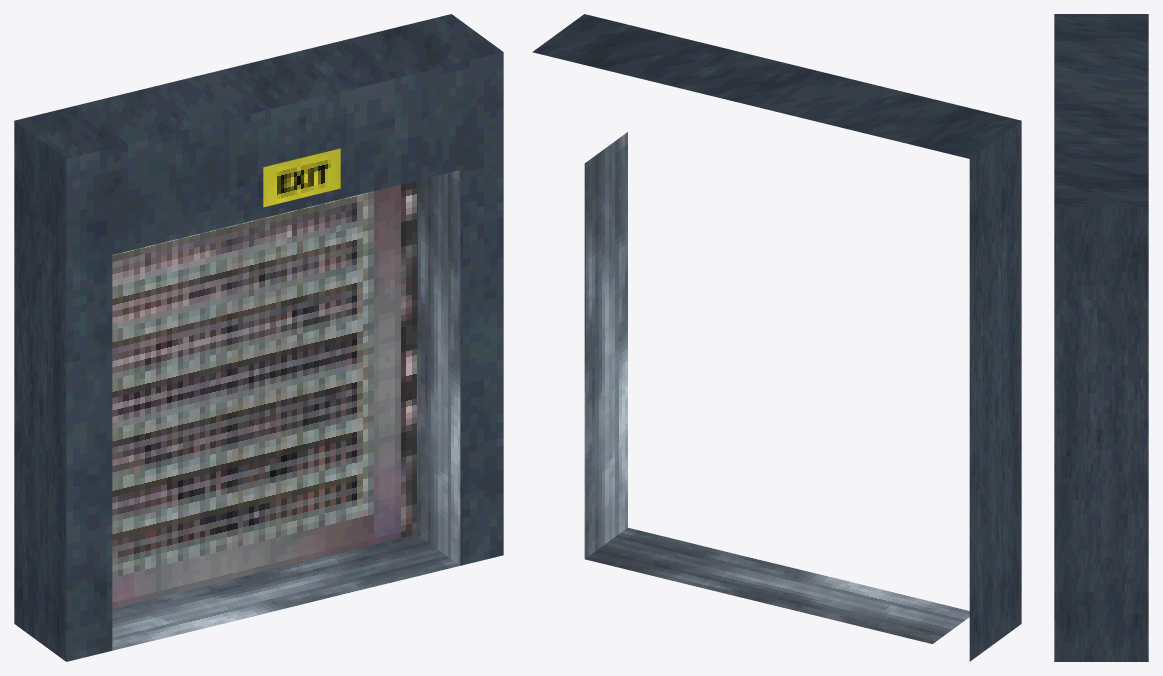
File: EXITDOOR.glb
3 views of the same model, side by side, from view 1: azimuth 30°, elevation 25°; view 2: azimuth 150°, elevation 25°; view 3: azimuth 270°, elevation 25° (orthographic). The views are drawn at different scales.
Parts seen in each view (by area): view 1: EXITDOOR; view 2: EXITDOOR; view 3: EXITDOOR.
Part boxes in pixels (left/top/right/bottom): EXITDOOR: left=14, top=14, right=503, bottom=661; EXITDOOR: left=532, top=14, right=1021, bottom=661; EXITDOOR: left=1054, top=14, right=1148, bottom=661.
Bounding box in the file's own units: 734 × 807 × 158.
Materials: 4 (4 with a texture image).
